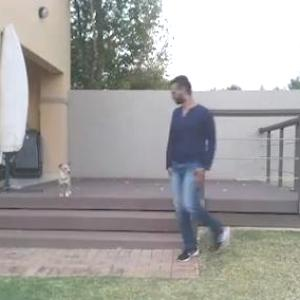follow: (167, 75, 219, 241)
